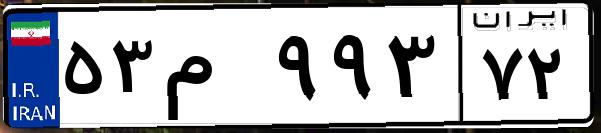2: (525, 38, 570, 115)
3: (385, 28, 445, 110), (110, 28, 158, 98)
5: (57, 26, 110, 100)
7: (475, 38, 525, 113)
9: (270, 28, 330, 110), (330, 28, 385, 110)
م: (158, 20, 270, 120)
